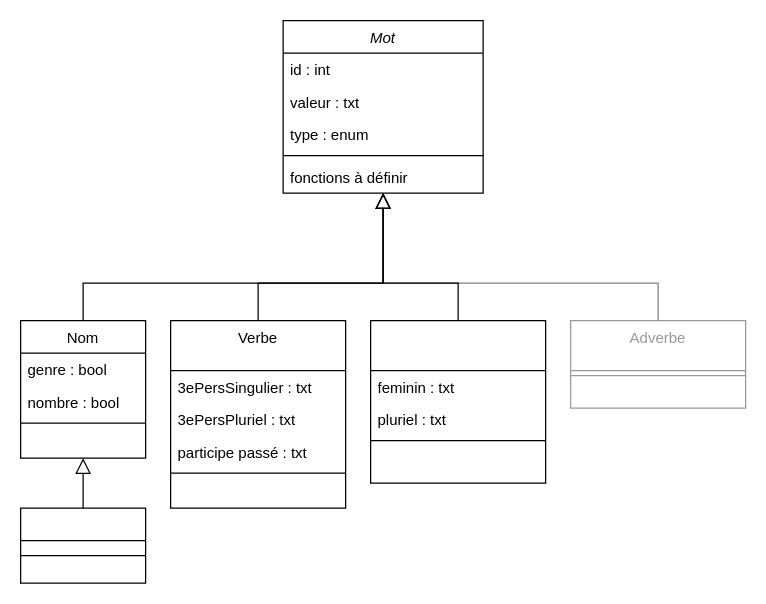
Some shapes in this 766 by 604 pixel diagram are drawn without their labels. Here are the shapes that lost their labels. From the top down, the box of each, then its label:
(369, 319, 546, 483): Adjectifs
(19, 507, 146, 583): Article
